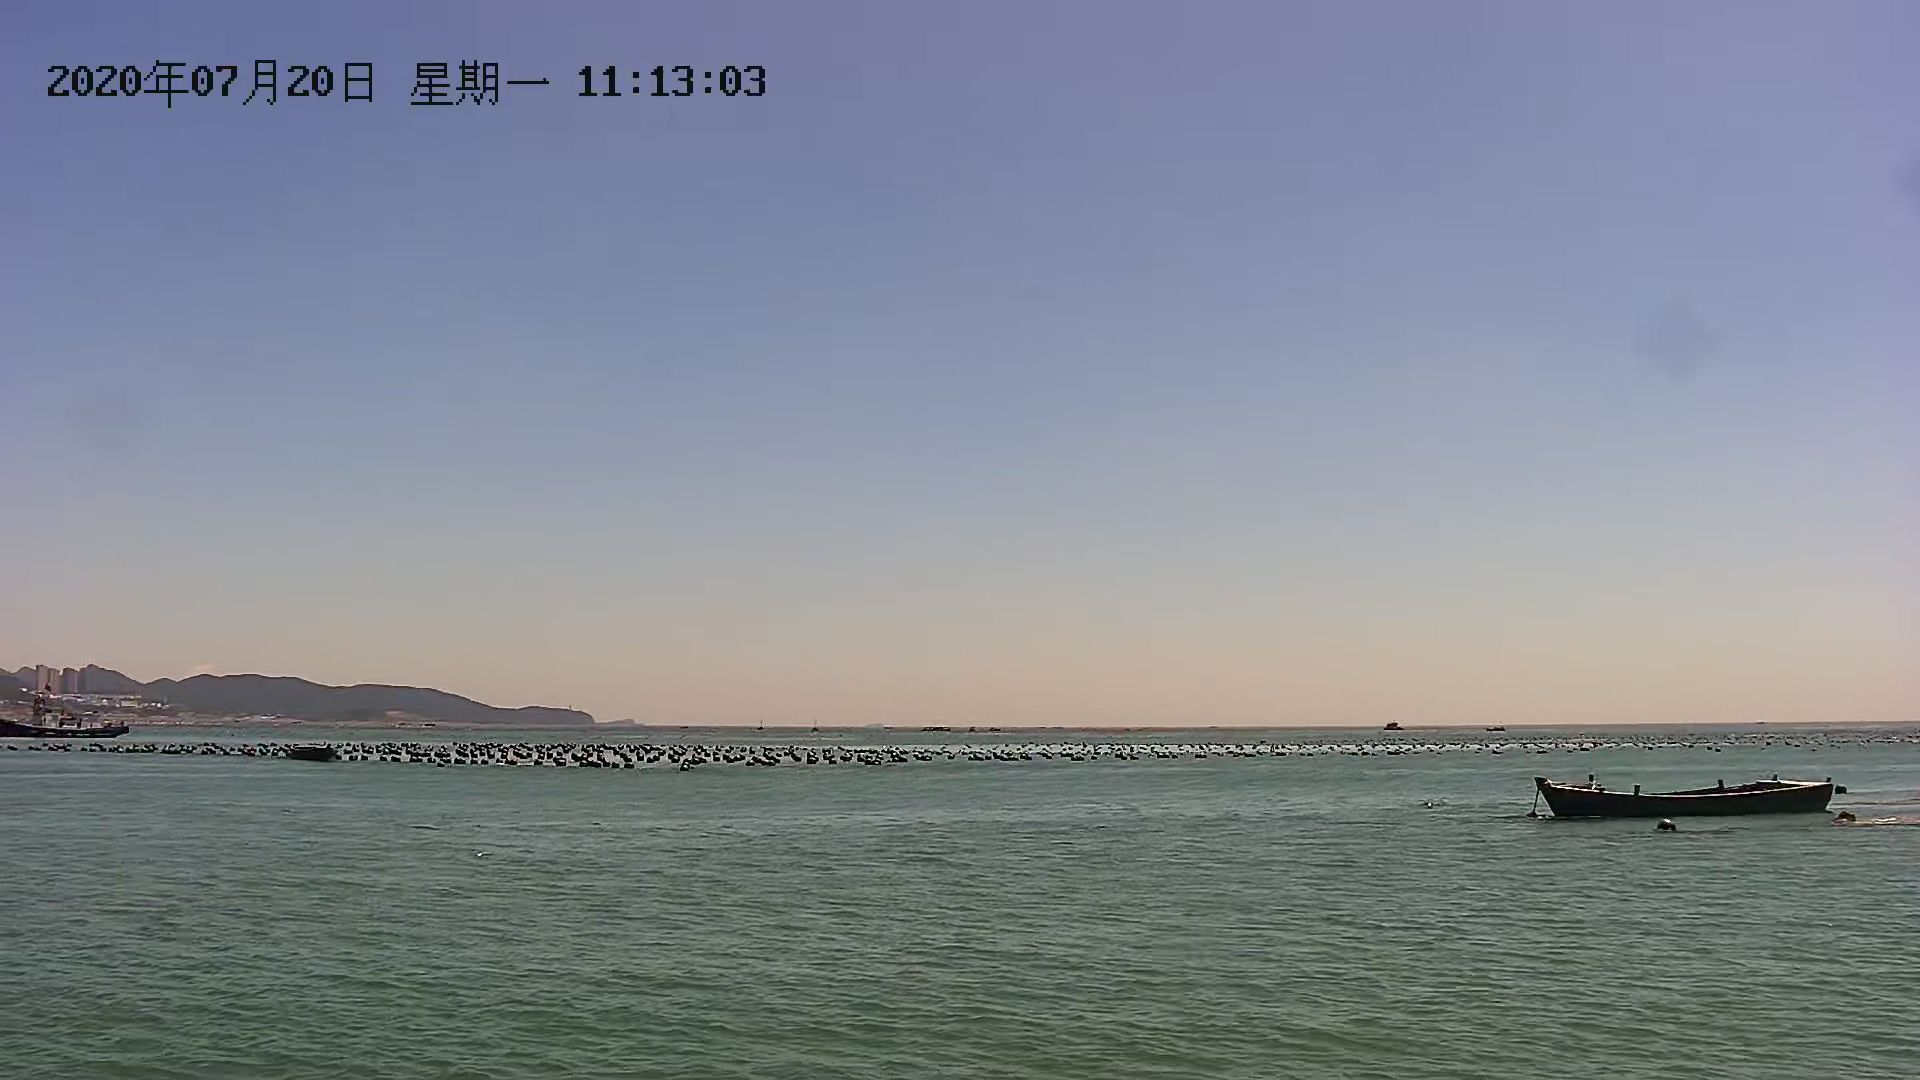boat: (1518, 767, 1855, 822), (1, 702, 141, 738)
rock: (1, 655, 630, 741)
